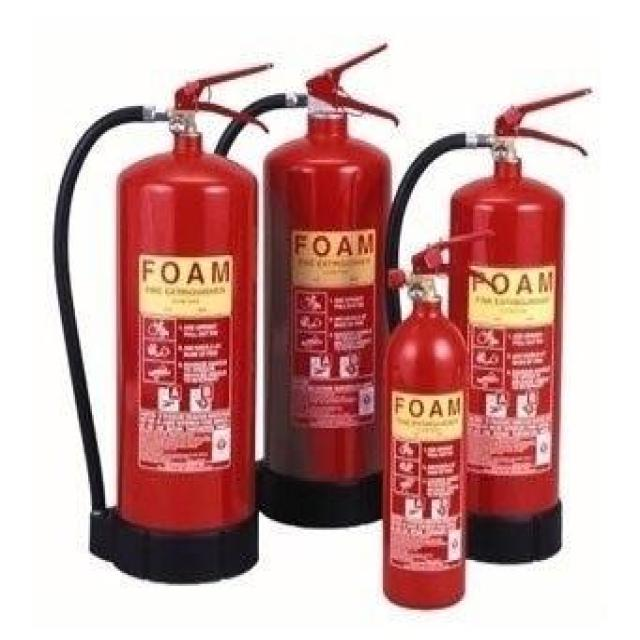fire_extinguisher: (47, 58, 272, 584), (381, 85, 591, 564), (210, 38, 398, 526), (372, 224, 492, 608)
